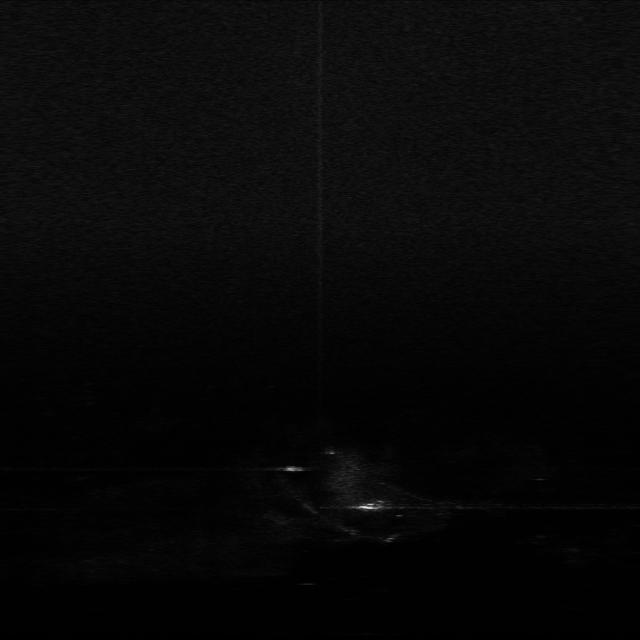rov: (356, 497, 390, 513)
